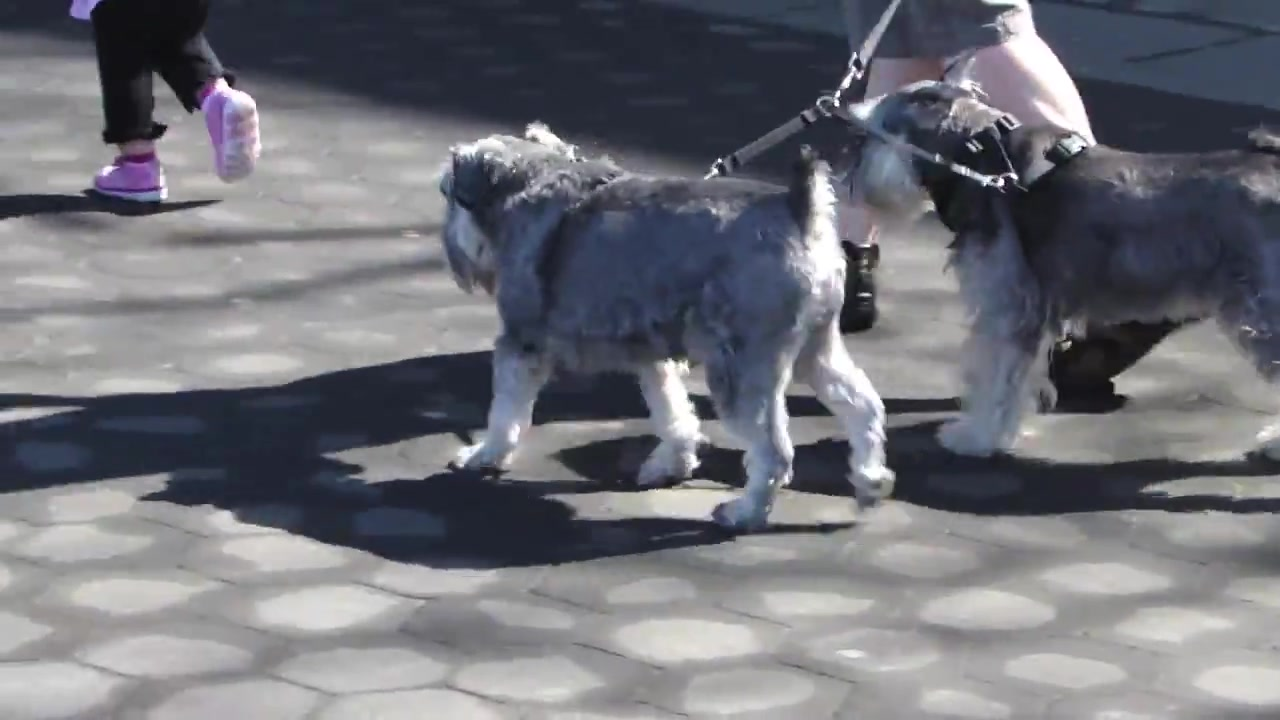dog: (433, 119, 898, 528)
